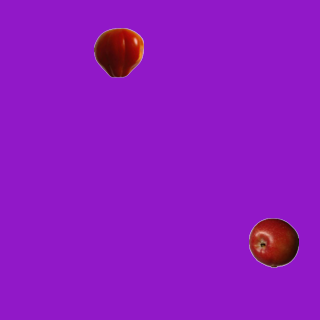Apple Braeburn: (248, 217, 298, 267)
Tomato 1: (93, 27, 143, 77)
